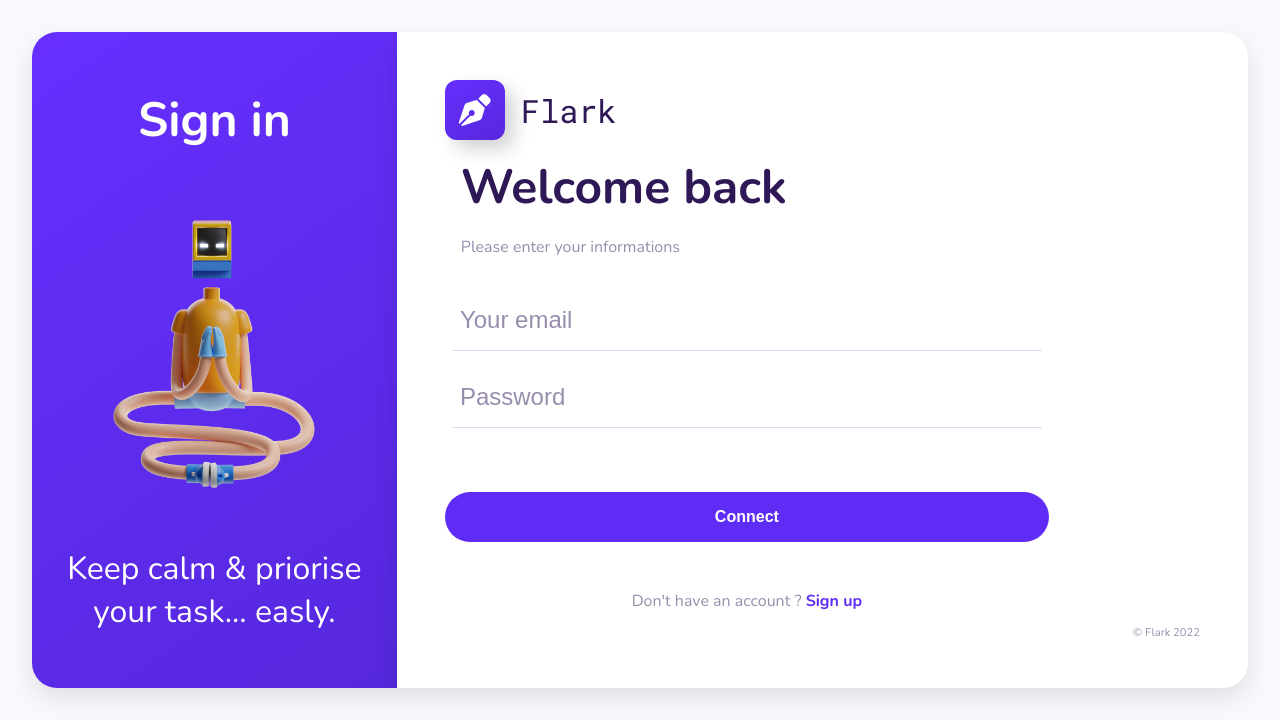
Test: SignIn Integration Tests › should have error message if email & password is empty
Click the button.
click(747, 516)  # box [445, 492, 1049, 542]
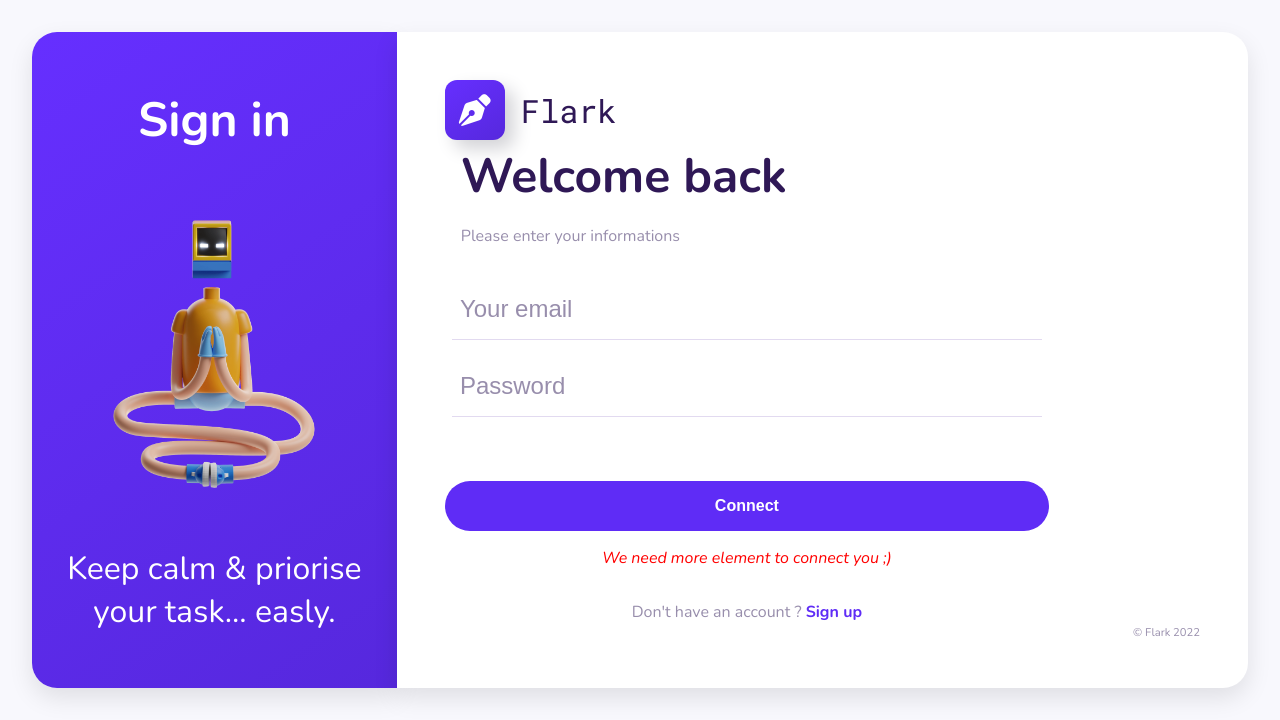
Expected: the text with test id "error-message" reads "We need more element to connect you ;)", [602, 546, 892, 568]
